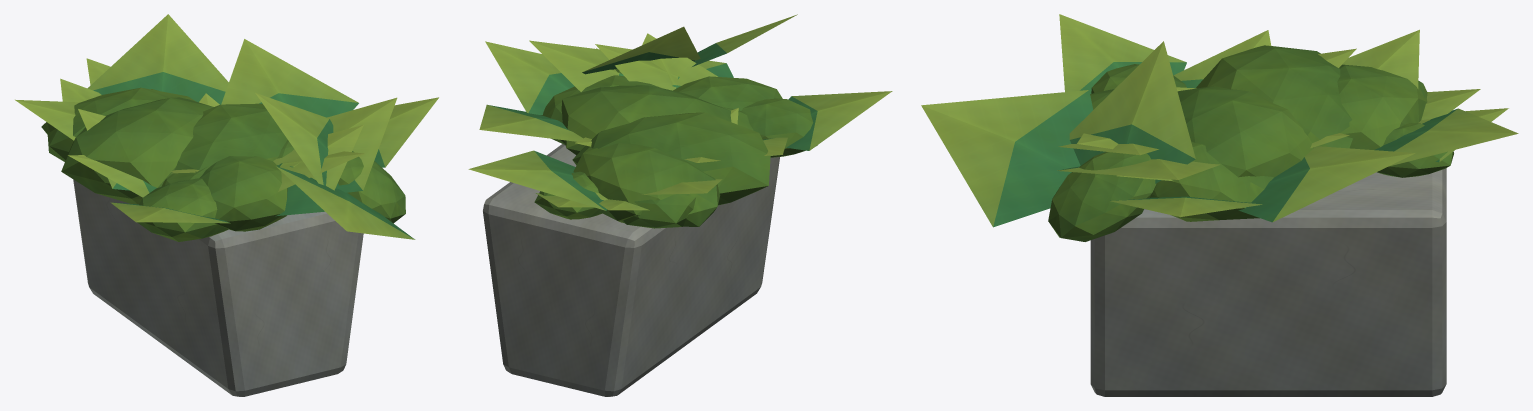
Rendered from forest_stone_arch_block.glb.
The picture shows the model from 3 angles, left to right: view 1: azimuth 30°, elevation 25°; view 2: azimuth 150°, elevation 25°; view 3: azimuth 270°, elevation 25°; orthographic projection. The views are drawn at different scales.
Visible parts, largest first — view 1: Stone bridge arch voussoir, Woodland shared moss cushion.092, Woodland shared curved ivy leaf.212, Woodland shared curved ivy leaf.228, Woodland shared moss cushion.091, Woodland shared moss cushion.090, Woodland shared moss cushion.087, Woodland shared curved ivy leaf.222, Woodland shared curved ivy leaf.221, Woodland shared curved ivy leaf.215, Woodland shared moss cushion.095, Woodland shared moss cushion.094 (+8 smaller); view 2: Stone bridge arch voussoir, Woodland shared moss cushion.092, Woodland shared moss cushion.095, Woodland shared moss cushion.090, Woodland shared curved ivy leaf.212, Woodland shared curved ivy leaf.227, Woodland shared curved ivy leaf.208, Woodland shared moss cushion.087, Woodland shared moss cushion.091, Woodland shared curved ivy leaf.215, Woodland shared curved ivy leaf.228, Woodland shared curved ivy leaf.222 (+8 smaller); view 3: Stone bridge arch voussoir, Woodland shared curved ivy leaf.221, Woodland shared moss cushion.090, Woodland shared moss cushion.092, Woodland shared curved ivy leaf.222, Woodland shared moss cushion.094, Woodland shared curved ivy leaf.228, Woodland shared moss cushion.095, Woodland shared curved ivy leaf.208, Woodland shared moss cushion.097, Woodland shared curved ivy leaf.212, Woodland shared curved ivy leaf.225 (+7 smaller).
Part boxes in pixels (box(x1,y1,x2,y2)): Stone bridge arch voussoir: box(73, 179, 363, 396); Woodland shared moss cushion.092: box(61, 97, 213, 204); Woodland shared curved ivy leaf.212: box(87, 14, 228, 104); Woodland shared curved ivy leaf.228: box(221, 39, 358, 117); Woodland shared moss cushion.091: box(200, 156, 287, 231); Woodland shared moss cushion.090: box(172, 103, 287, 173); Woodland shared moss cushion.087: box(137, 178, 228, 241); Woodland shared curved ivy leaf.222: box(255, 93, 339, 188); Woodland shared curved ivy leaf.221: box(275, 166, 415, 239); Woodland shared curved ivy leaf.215: box(327, 97, 397, 192); Woodland shared moss cushion.095: box(47, 87, 195, 161); Woodland shared moss cushion.094: box(338, 151, 405, 223); Stone bridge arch voussoir: box(483, 144, 779, 396); Woodland shared moss cushion.092: box(572, 112, 770, 205); Woodland shared moss cushion.095: box(573, 143, 720, 226); Woodland shared moss cushion.090: box(561, 85, 731, 155); Woodland shared curved ivy leaf.212: box(468, 150, 607, 210); Woodland shared curved ivy leaf.227: box(485, 41, 574, 114); Woodland shared curved ivy leaf.208: box(786, 91, 892, 150); Woodland shared moss cushion.087: box(741, 98, 817, 157); Woodland shared moss cushion.091: box(673, 76, 782, 110); Woodland shared curved ivy leaf.215: box(529, 40, 623, 91); Woodland shared curved ivy leaf.228: box(479, 104, 582, 141); Woodland shared curved ivy leaf.222: box(582, 26, 700, 74); Stone bridge arch voussoir: box(1090, 168, 1446, 396); Woodland shared curved ivy leaf.221: box(921, 90, 1093, 227); Woodland shared moss cushion.090: box(1177, 86, 1313, 177); Woodland shared moss cushion.092: box(1196, 45, 1354, 148); Woodland shared curved ivy leaf.222: box(1069, 41, 1195, 183); Woodland shared moss cushion.094: box(1048, 152, 1156, 241); Woodland shared curved ivy leaf.228: box(1238, 146, 1415, 222); Woodland shared moss cushion.095: box(1337, 64, 1427, 149); Woodland shared curved ivy leaf.208: box(1059, 14, 1186, 93); Woodland shared moss cushion.097: box(1150, 141, 1273, 221); Woodland shared curved ivy leaf.212: box(1374, 108, 1518, 166); Woodland shared curved ivy leaf.225: box(1342, 29, 1419, 88).
Size of the model in its own units: 0.542 by 0.4026 by 0.6718.
Materials: 4 (4 with a texture image).
